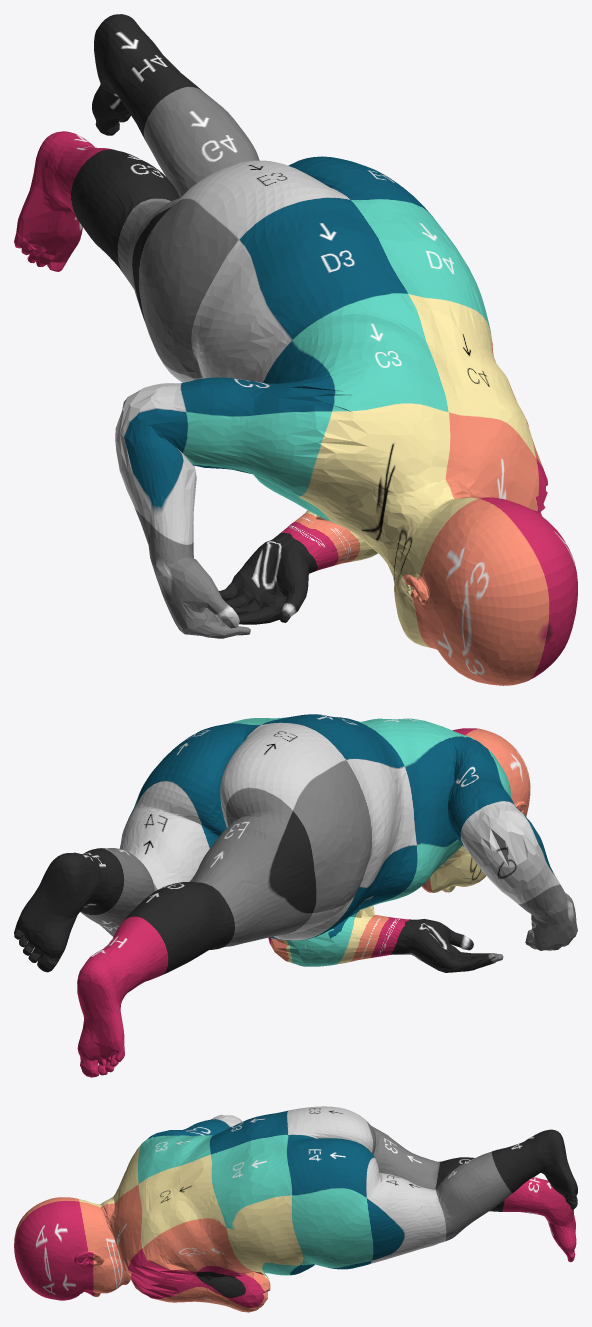
The model's file is kid00-kid04.obj.
The picture shows the model from 3 angles, top to bottom: view 1: azimuth 30°, elevation 25°; view 2: azimuth 150°, elevation 25°; view 3: azimuth 270°, elevation 25°; orthographic projection. The views are drawn at different scales.
Parts seen in each view (by area): view 1: kid00-kid04_export; view 2: kid00-kid04_export; view 3: kid00-kid04_export.
Part boxes in pixels (<box>): kid00-kid04_export: <box>14,14,577,685</box>; kid00-kid04_export: <box>14,714,577,1077</box>; kid00-kid04_export: <box>14,1106,577,1312</box>.
Bounding box in the file's own units: 0.4667 × 0.3849 × 1.03.
Materials: 1 (1 with a texture image).
